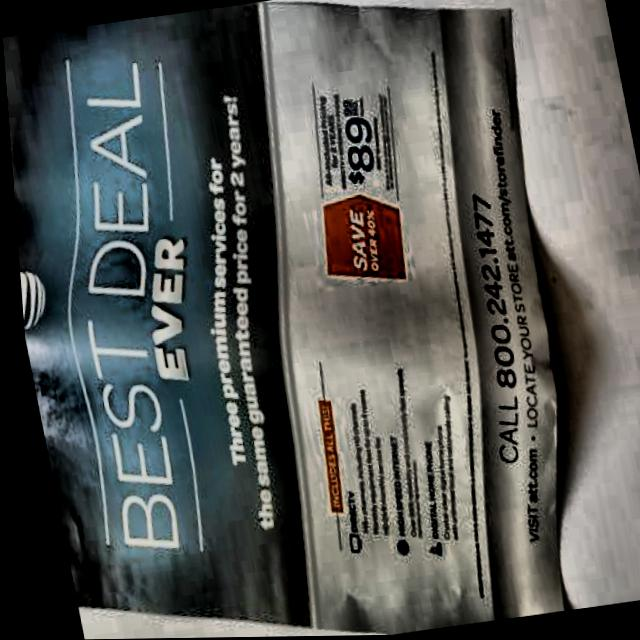Paper: (0, 0, 617, 640)
